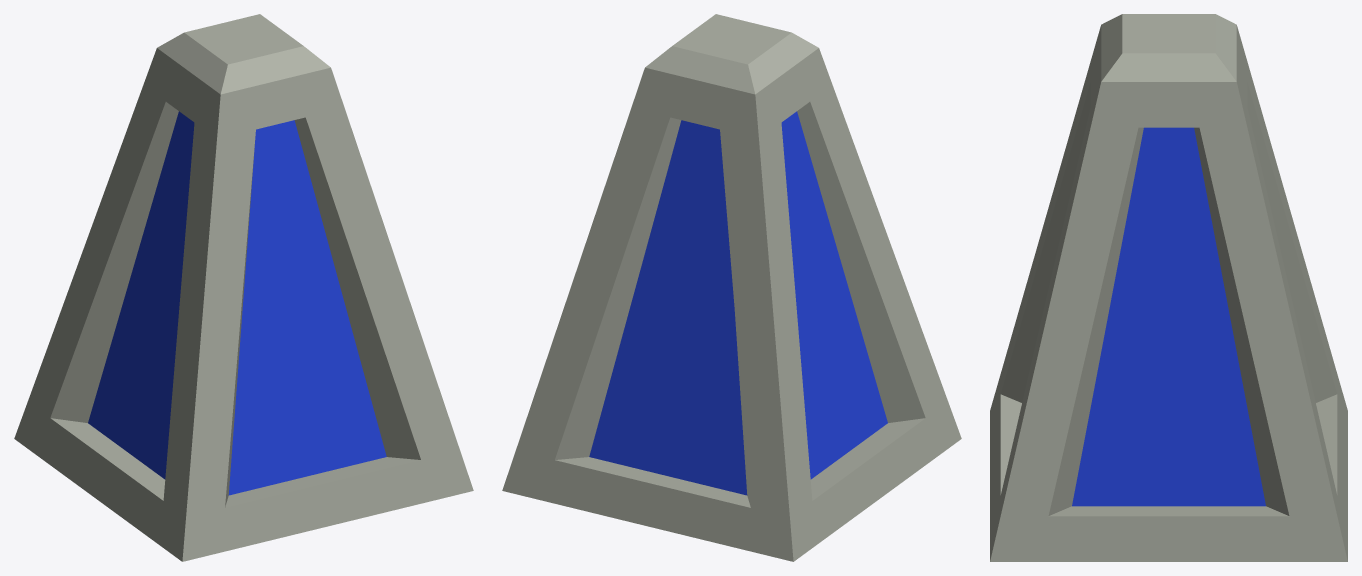
The model's file is monolith.fbx.
The picture shows the model from 3 angles, left to right: view 1: azimuth 30°, elevation 25°; view 2: azimuth 150°, elevation 25°; view 3: azimuth 270°, elevation 25°; orthographic projection. The views are drawn at different scales.
Visible parts, largest first — view 1: Cube; view 2: Cube; view 3: Cube.
Part boxes in pixels (x1,y1,x2,y2): Cube: (14, 14, 473, 561); Cube: (502, 14, 961, 561); Cube: (990, 14, 1347, 561).
Size of the model in its own units: 200 by 279 by 200.
